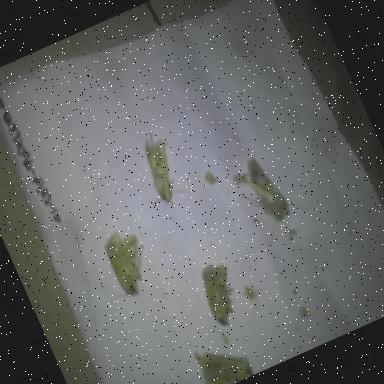abw: (223, 137, 314, 239), (79, 216, 164, 310), (119, 120, 197, 216), (188, 252, 254, 336), (186, 327, 258, 384)
